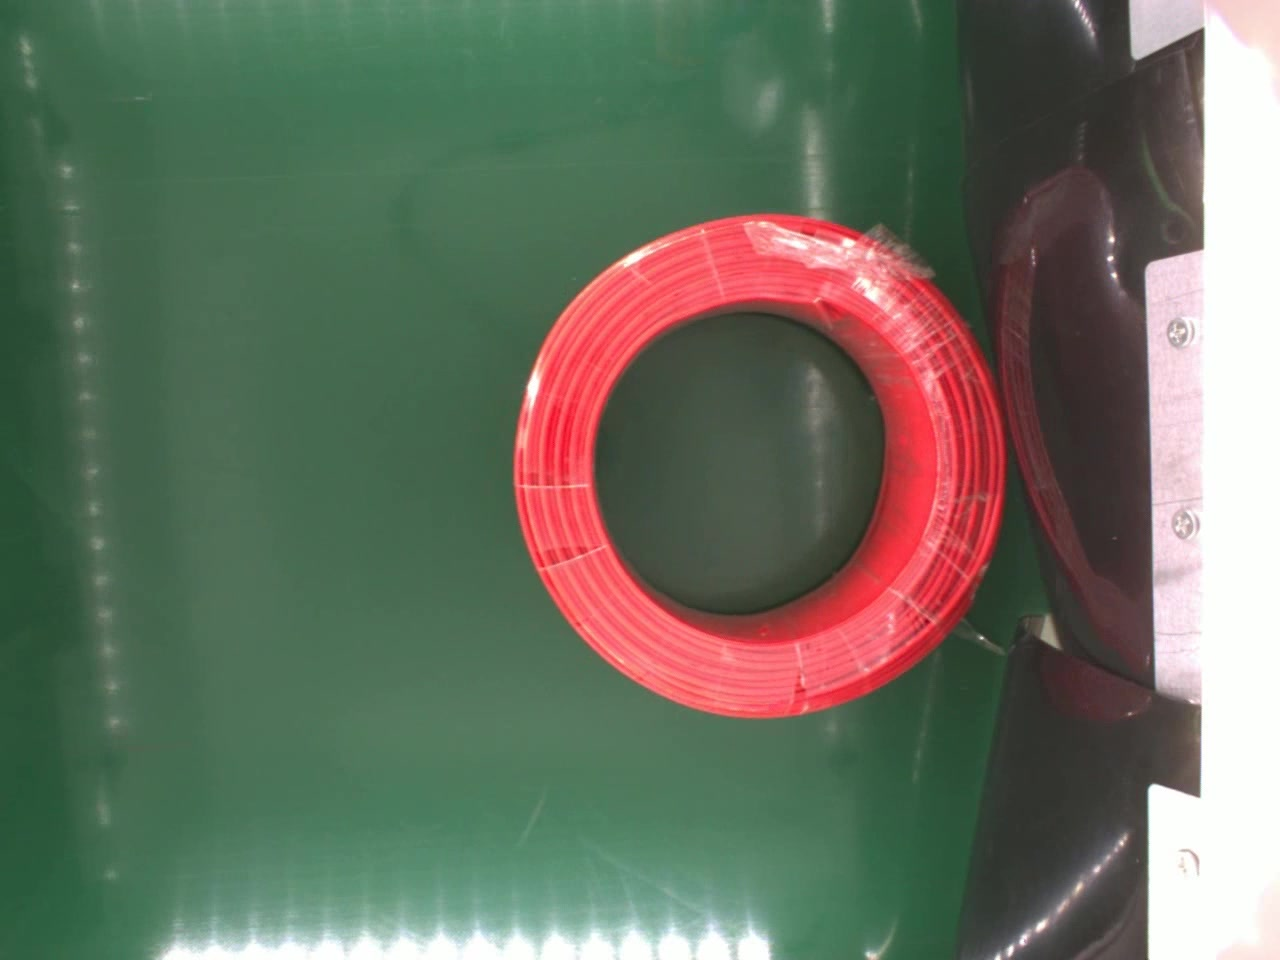red: (509, 209, 1011, 725)
